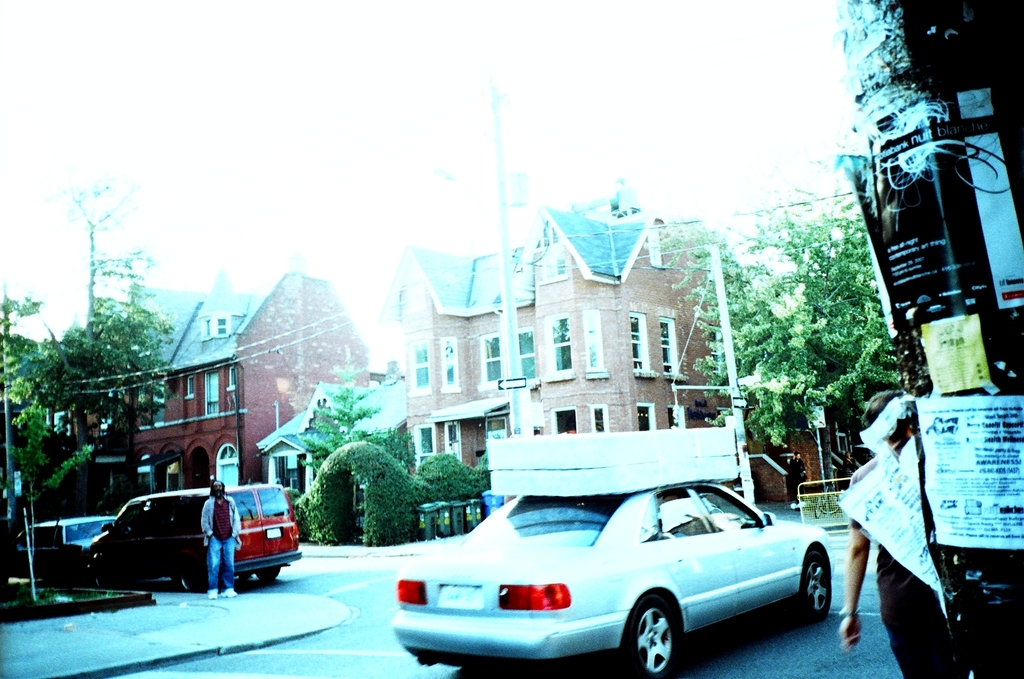Car: (391, 481, 836, 678), (89, 482, 297, 587), (5, 513, 116, 579)
